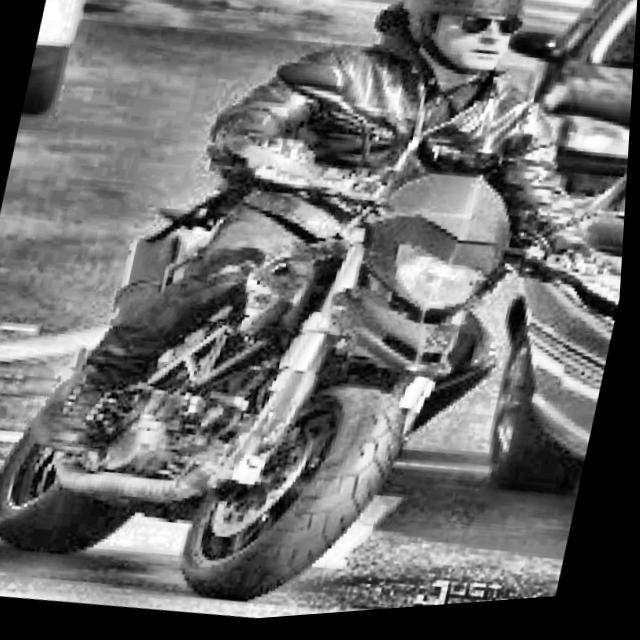motorcycle: (0, 24, 637, 640)
